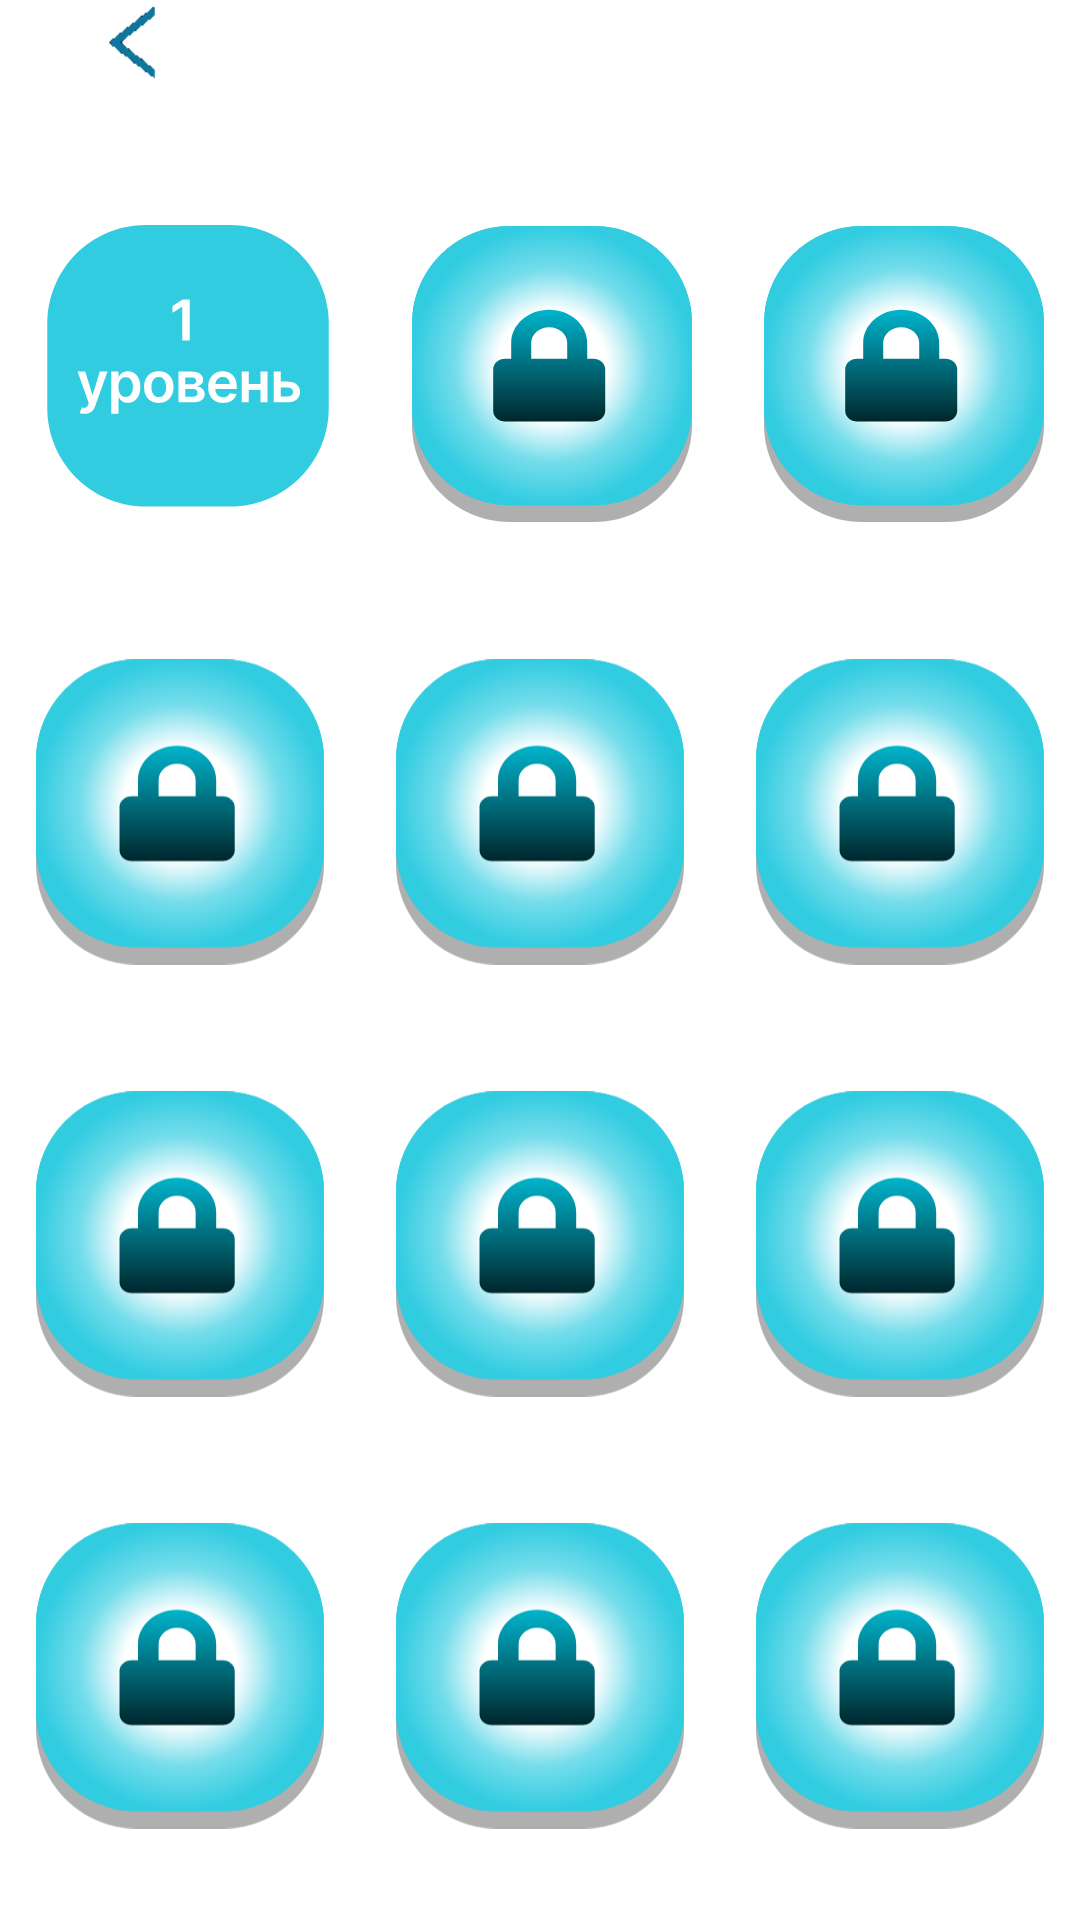

Named icons in this screenshot (1080 × 1920) and their centers, (x=x, y=y):
back: (x=132, y=42)
